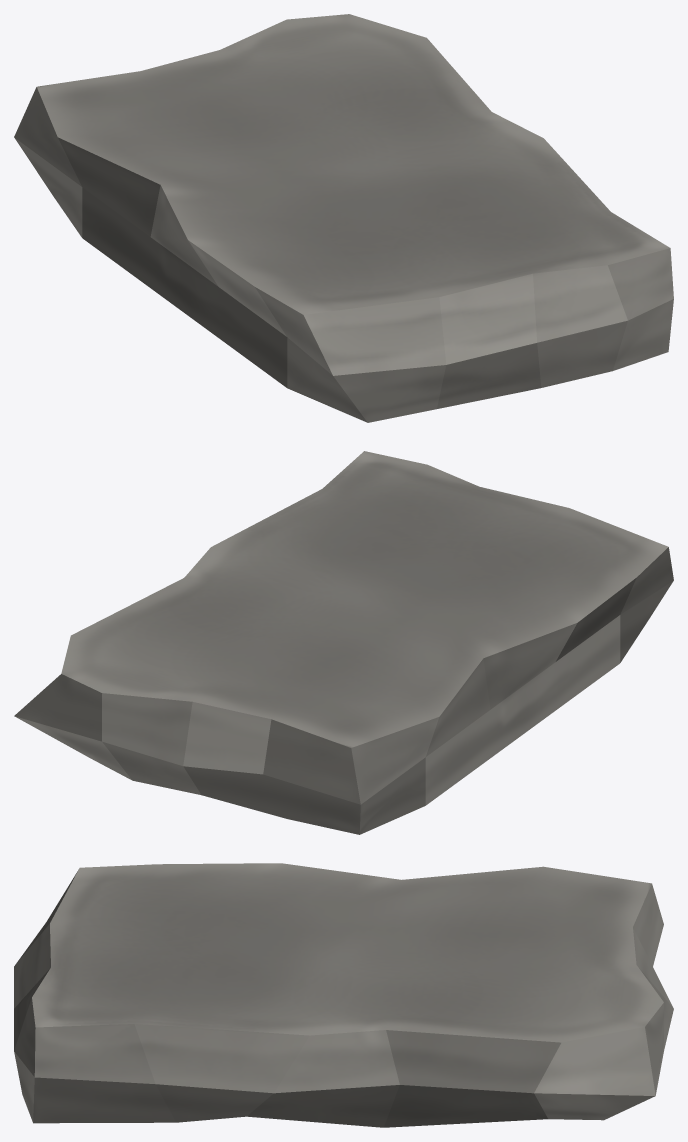
The model's file is floating_path_0.fbx.
3 views of the same model, one above another, from view 1: azimuth 30°, elevation 25°; view 2: azimuth 150°, elevation 25°; view 3: azimuth 270°, elevation 25° (orthographic). The views are drawn at different scales.
Parts seen in each view (by area): view 1: floating_path_0; view 2: floating_path_0; view 3: floating_path_0.
Part boxes in pixels (x1,y1,x2,y2): floating_path_0: (14, 14, 673, 422); floating_path_0: (14, 451, 673, 834); floating_path_0: (14, 863, 673, 1127).
Size of the model in its own units: 199 by 49.01 by 301.
